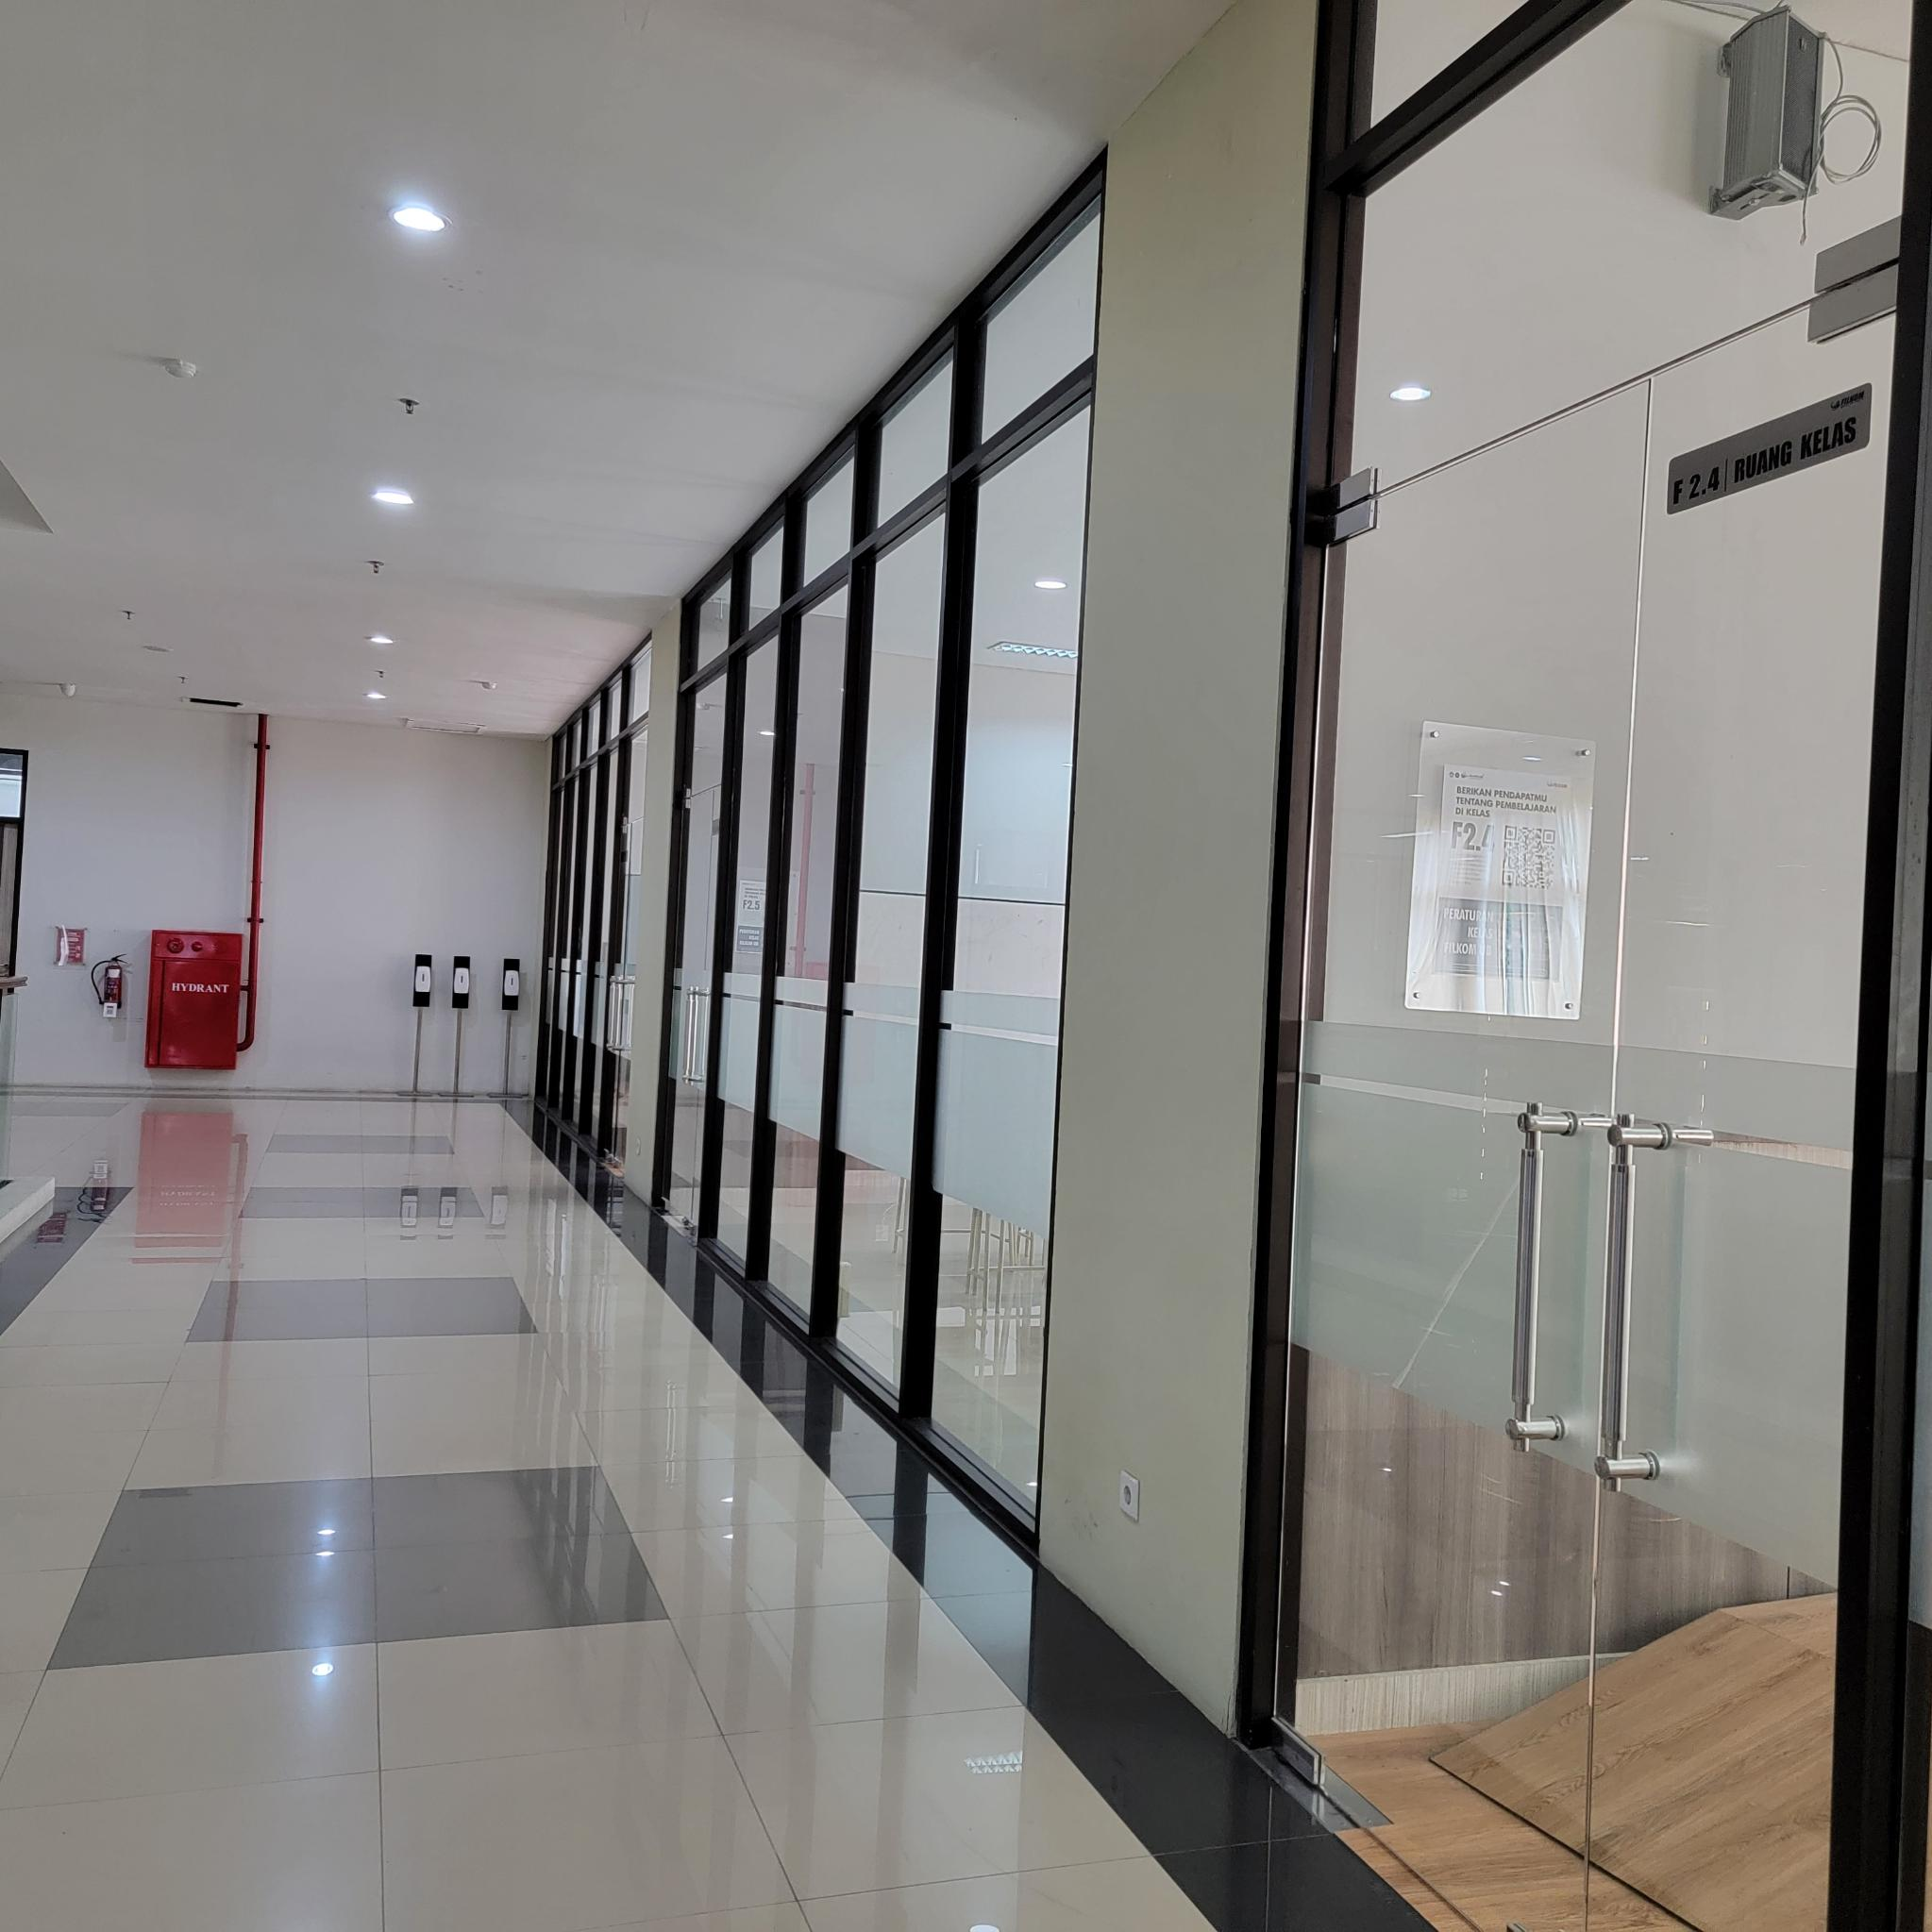plate: (1665, 379, 1872, 518)
